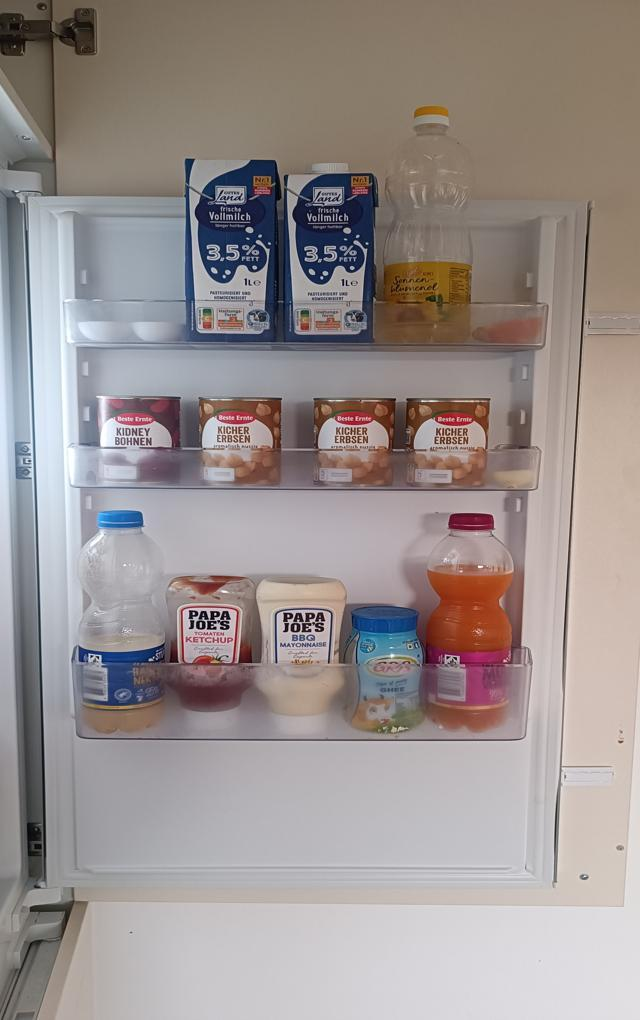bananajuice: (77, 507, 167, 736)
chickpeas: (196, 395, 282, 487), (406, 399, 488, 493), (314, 396, 394, 491)
ghee: (347, 604, 429, 738)
kidneybeans: (95, 395, 182, 487)
mayoniasie: (254, 572, 347, 740)
milk: (182, 155, 282, 342), (283, 160, 376, 350)
oil: (383, 104, 478, 345)
orangejuice: (428, 511, 516, 736)
tomatoketchup: (164, 573, 258, 737)
